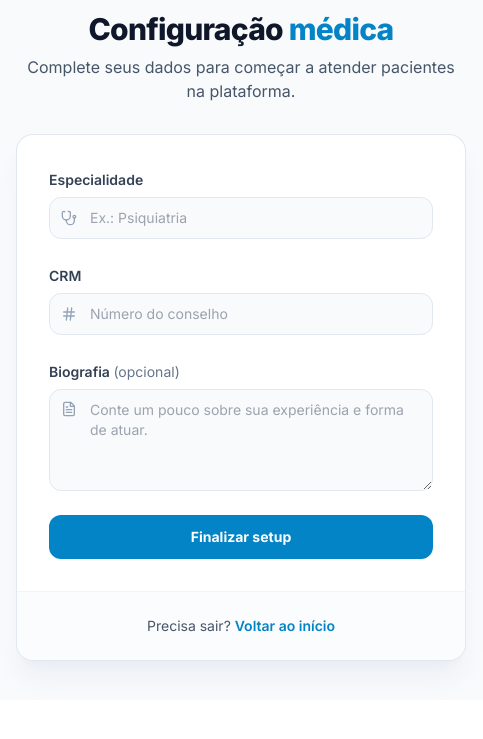
Scenario: DoctorSetupPage › exibe erro quando API falha
Type "Psiquiatria" into the field labelled "Especialidade". click: (241, 218)
box: x1=49 y1=197 x2=433 y2=239
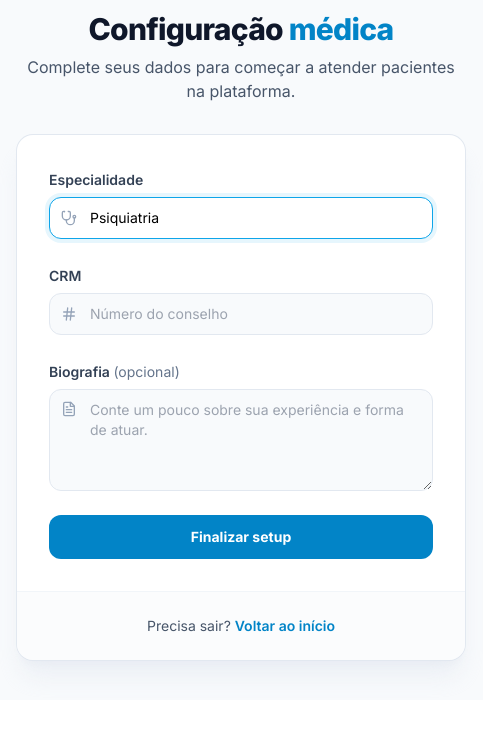
Type "xxx" into the field labelled "CRM". click: (241, 314)
box: x1=49 y1=293 x2=433 y2=335
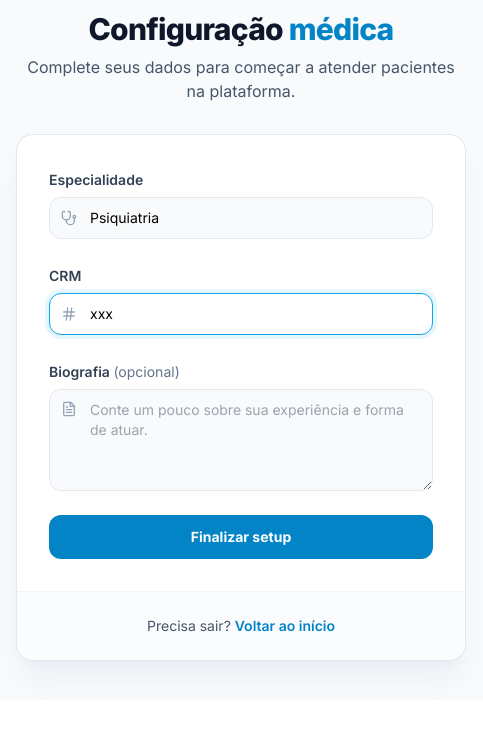
Click the button "Finalizar setup". click: click(241, 537)
box: x1=49 y1=515 x2=433 y2=559
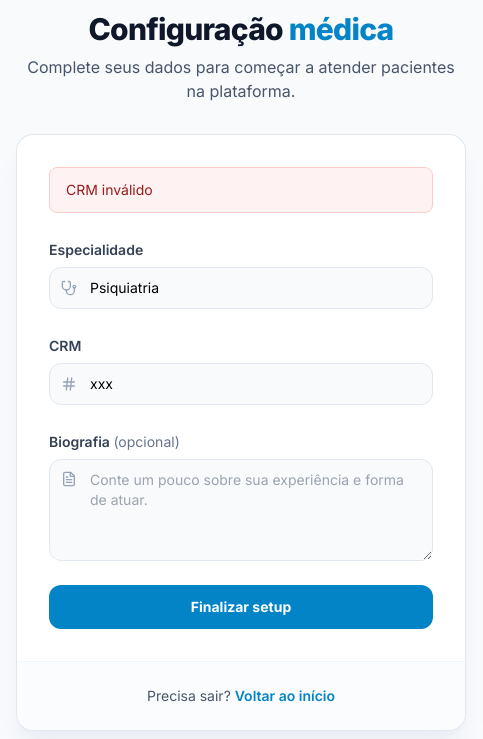
Now the text "CRM inválido" is shown, box x1=49 y1=167 x2=433 y2=213
